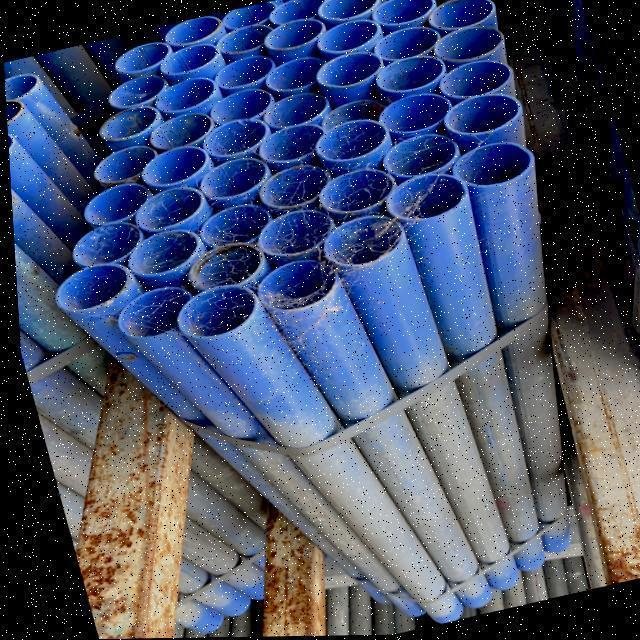pipe: (250, 256, 335, 314), (171, 283, 252, 337), (319, 211, 399, 265), (250, 156, 327, 212), (79, 179, 163, 229), (111, 284, 189, 337), (194, 150, 264, 208), (386, 171, 465, 222), (192, 204, 277, 251), (66, 214, 144, 265), (251, 206, 329, 256), (184, 238, 260, 289), (380, 128, 456, 178), (447, 142, 531, 187), (50, 262, 124, 313), (124, 226, 196, 278), (375, 94, 451, 143), (429, 59, 510, 104), (317, 166, 391, 215), (439, 91, 521, 135), (88, 139, 164, 186), (127, 182, 202, 229), (312, 116, 384, 163), (133, 142, 204, 189), (252, 122, 321, 170), (259, 53, 336, 94), (373, 55, 450, 95), (362, 25, 445, 62), (196, 116, 265, 160), (258, 87, 330, 129), (143, 112, 213, 155), (105, 65, 171, 110), (196, 87, 273, 124), (212, 52, 275, 95), (97, 100, 160, 143), (435, 17, 499, 58), (149, 74, 212, 115), (260, 16, 329, 53), (315, 49, 380, 88), (425, 0, 495, 33), (215, 17, 273, 56), (317, 96, 389, 127), (156, 42, 217, 78), (315, 15, 374, 52), (112, 40, 171, 76), (161, 13, 223, 47), (370, 0, 434, 27), (220, 0, 280, 28), (314, 0, 377, 21), (268, 0, 323, 24), (4, 71, 37, 97)
